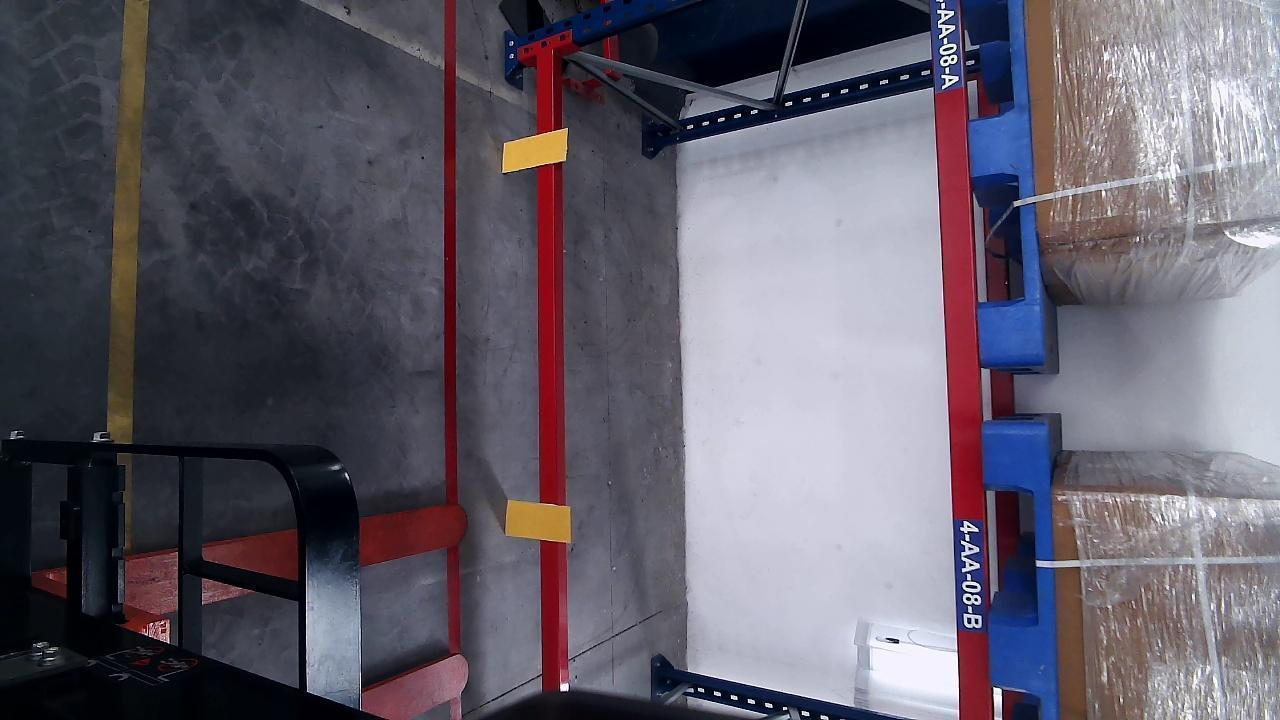red_line: (445, 0, 462, 720)
yellow_line: (107, 2, 148, 434)
